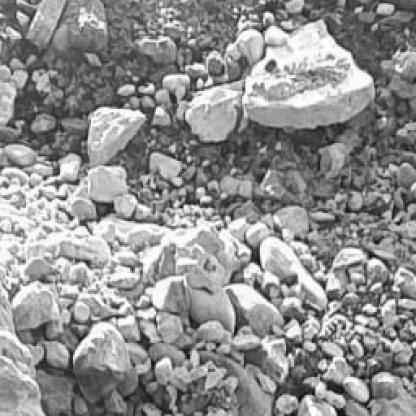cementitious_debris: (1, 1, 413, 414)
